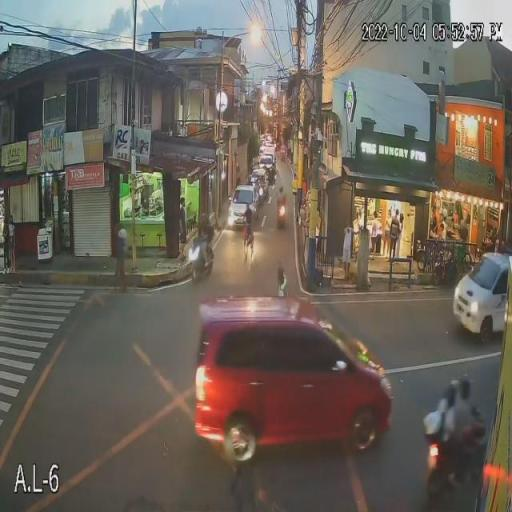helmet: (452, 378, 472, 402), (276, 186, 285, 194)
motorcycle: (424, 410, 488, 512), (186, 239, 216, 283), (276, 202, 288, 230)
rider: (440, 378, 479, 468), (196, 224, 213, 258), (277, 190, 286, 210)
